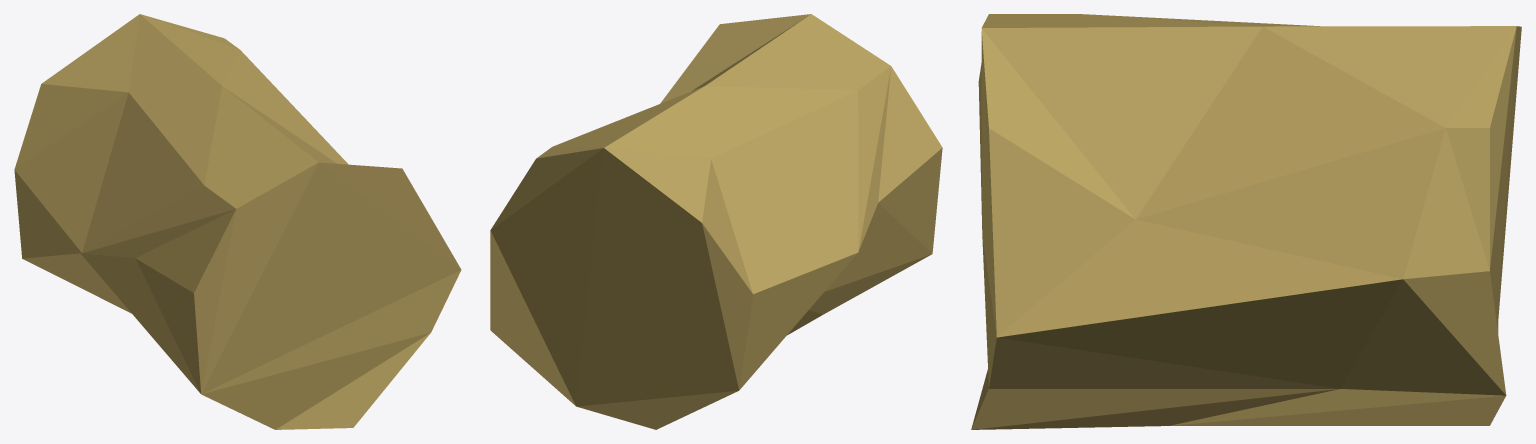
Rendered from allumefeu.fbx.
3 renders of one model, left to right at view 1: azimuth 30°, elevation 25°; view 2: azimuth 150°, elevation 25°; view 3: azimuth 270°, elevation 25°, orthographic. The views are drawn at different scales.
Parts seen in each view (by area): view 1: Cylinder; view 2: Cylinder; view 3: Cylinder.
Part boxes in pixels (x1,y1,x2,y2): Cylinder: (14,14,461,429); Cylinder: (490,14,942,429); Cylinder: (971,14,1521,429).
Bounding box in the file's own units: 90.24 × 82.94 × 106.
